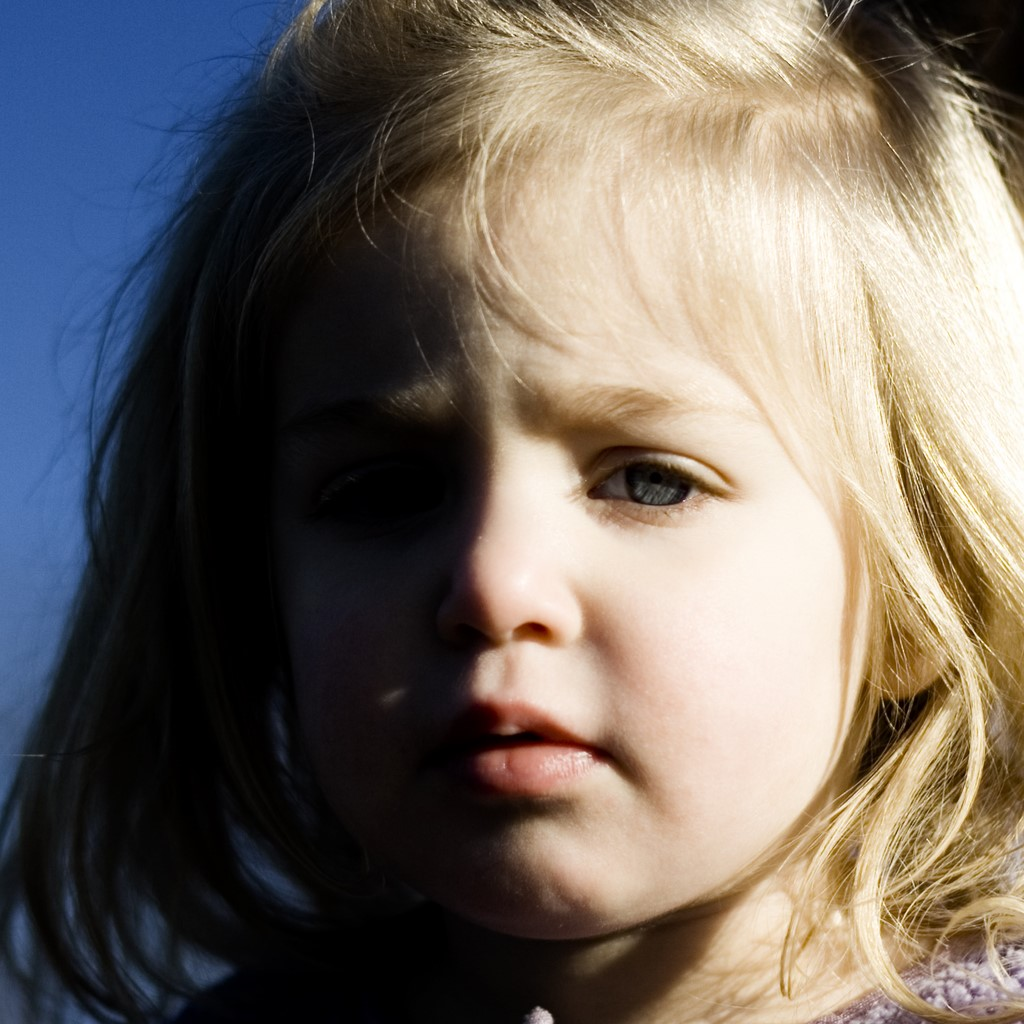sin_mascara: (247, 121, 885, 921)
